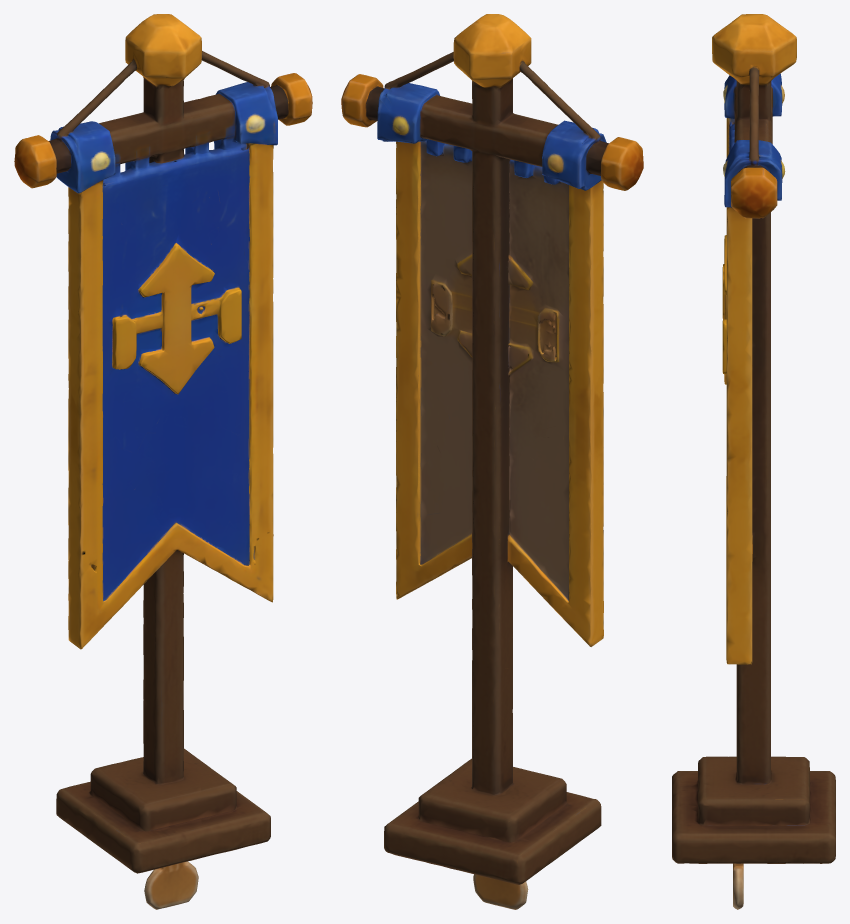
Rendered from banner_pole_t1.glb.
3 renders of one model, left to right at view 1: azimuth 30°, elevation 25°; view 2: azimuth 150°, elevation 25°; view 3: azimuth 270°, elevation 25°, orthographic.
Visible parts, largest first — view 1: geometry_0; view 2: geometry_0; view 3: geometry_0.
Part boxes in pixels (<box>): geometry_0: <box>14,14,312,909</box>; geometry_0: <box>341,14,643,909</box>; geometry_0: <box>672,14,835,909</box>.
Bounding box in the file's own units: 0.3434 × 1 × 0.1685.
Materials: 1 (1 with a texture image).
